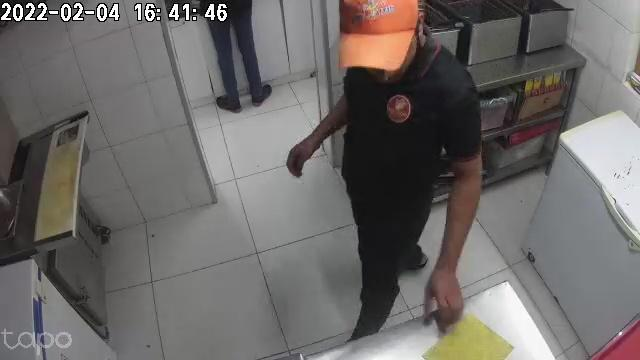no_gloves: (286, 130, 321, 179)
